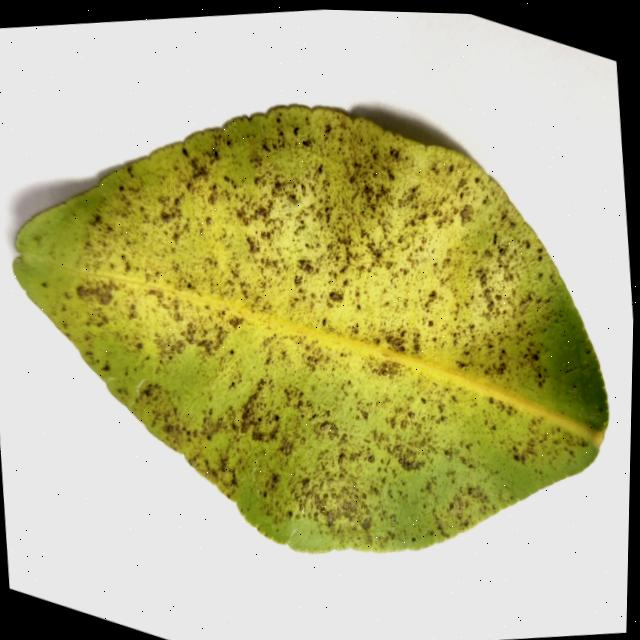melanose: (13, 105, 608, 551)
